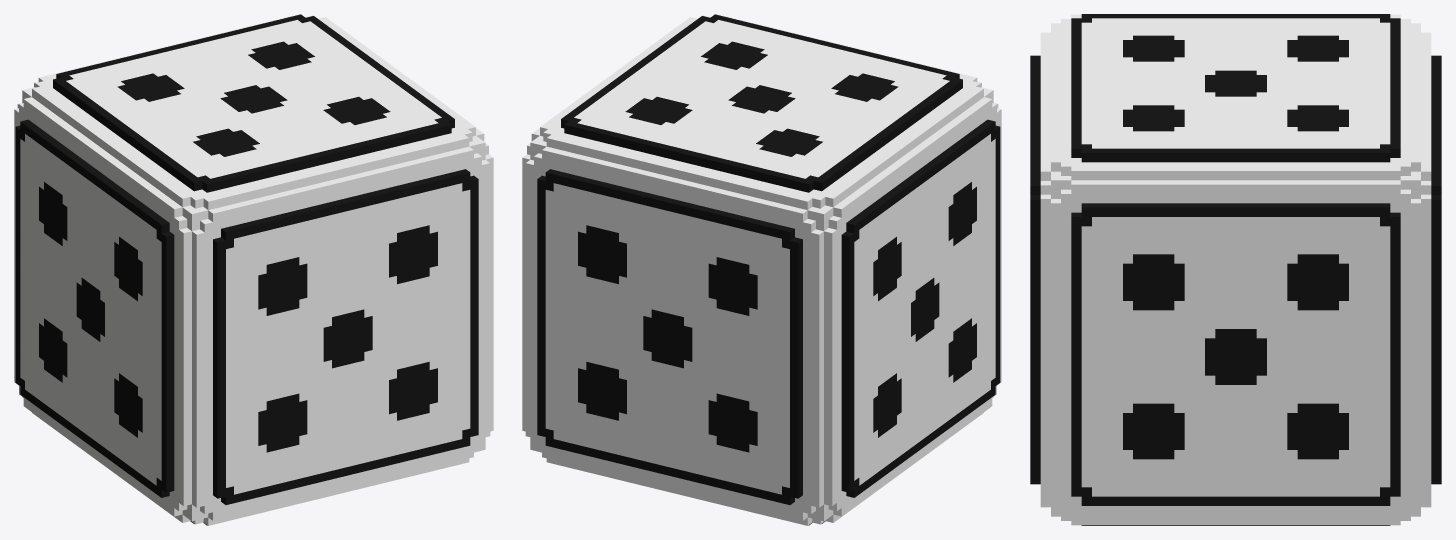
Rendered from Dicemob5.obj.
3 renders of one model, left to right at view 1: azimuth 30°, elevation 25°; view 2: azimuth 150°, elevation 25°; view 3: azimuth 270°, elevation 25°, orthographic. The views are drawn at different scales.
Bounding box in the file's own units: 4 × 4 × 4.
